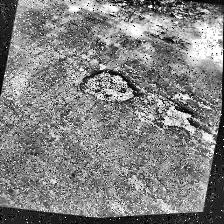pothole: (72, 59, 150, 113), (154, 100, 222, 154)
